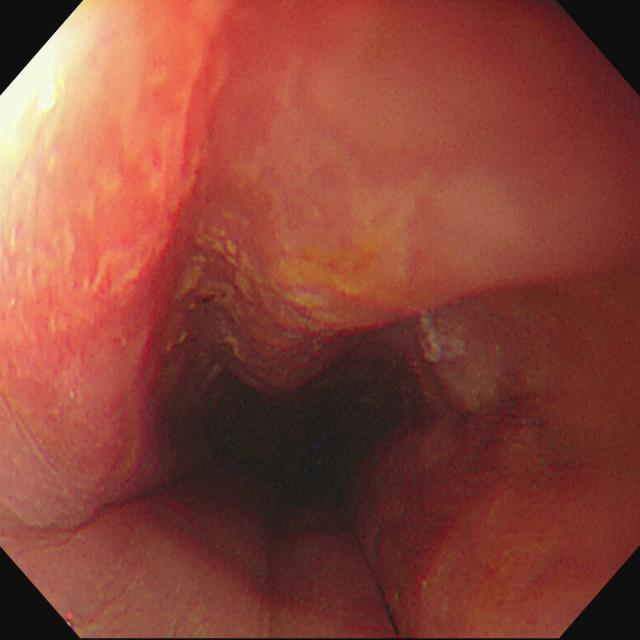E: (177, 353, 408, 528)
J: (166, 222, 364, 358), (418, 309, 468, 364)
